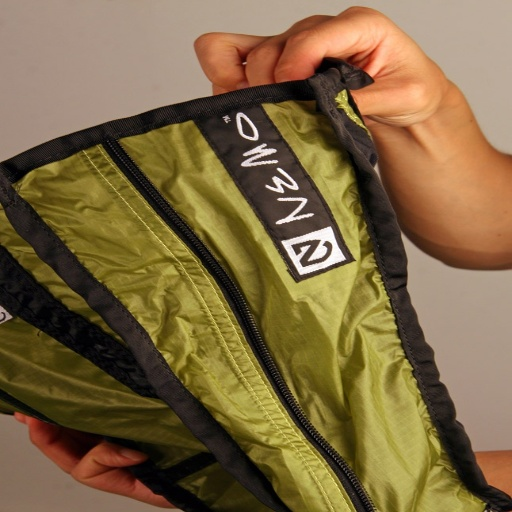hand: (191, 4, 462, 133), (30, 423, 160, 497)
